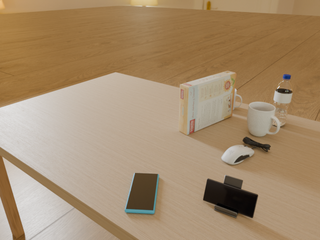bottle: (272, 74, 293, 126)
box: (179, 71, 236, 135)
cup: (247, 102, 280, 136)
mouse: (222, 145, 254, 165)
phone: (203, 179, 258, 218), (125, 173, 159, 214)
